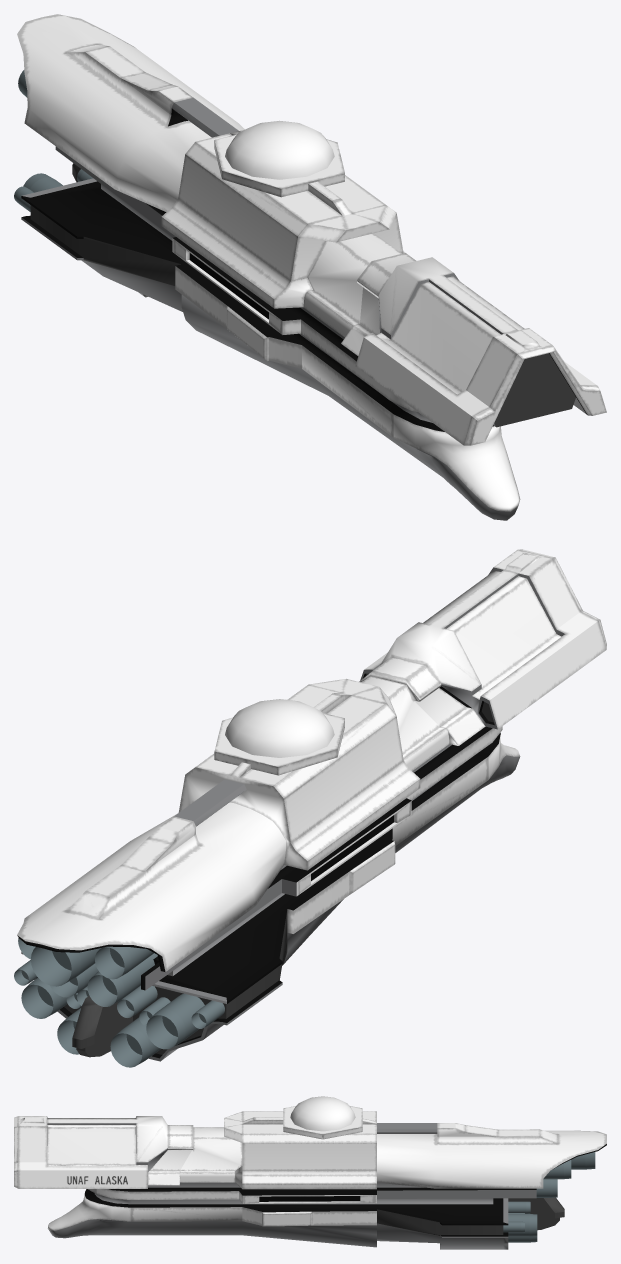
File: objmd_StarShip_01.fbx
3 views of the same model, one above another, from view 1: azimuth 30°, elevation 25°; view 2: azimuth 150°, elevation 25°; view 3: azimuth 270°, elevation 25° (orthographic). The views are drawn at different scales.
Visible parts, largest first — view 1: StarShip_grp; view 2: StarShip_grp; view 3: StarShip_grp.
Boxes of the visible parts, left/top/right/bottom form: StarShip_grp: left=14, top=14, right=606, bottom=520; StarShip_grp: left=14, top=549, right=606, bottom=1067; StarShip_grp: left=14, top=1096, right=606, bottom=1249.
Bounding box in the file's own units: 55884 × 61735 × 234174.
